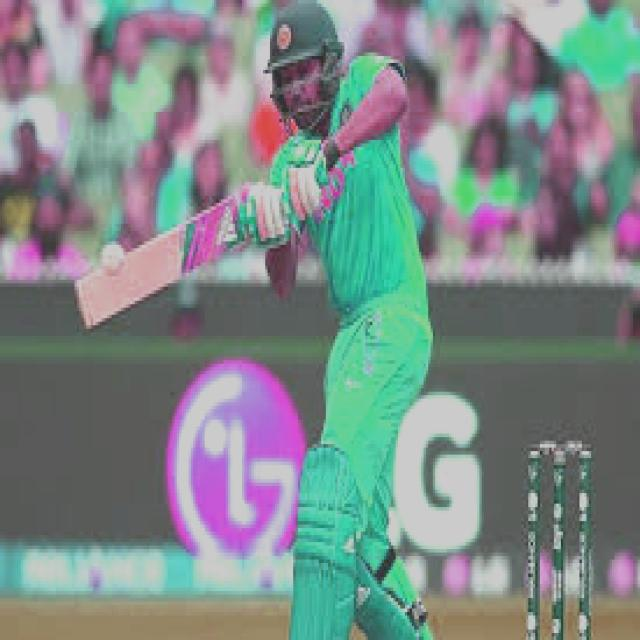toe: (73, 279, 98, 340)
